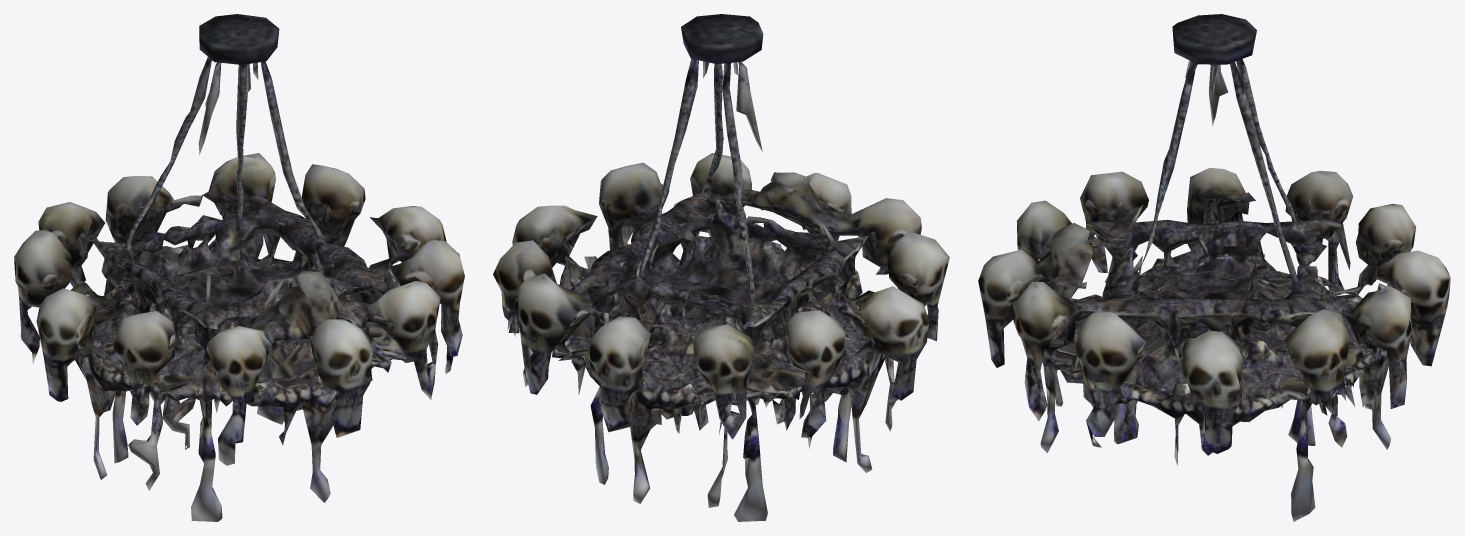
Rendered from Chandelier.fbx.
3 renders of one model, left to right at view 1: azimuth 30°, elevation 25°; view 2: azimuth 150°, elevation 25°; view 3: azimuth 270°, elevation 25°, orthographic.
Visible parts, largest first — view 1: mesh; view 2: mesh; view 3: mesh.
Part boxes in pixels (x1,y1,x2,y2): mesh: [14, 14, 464, 521]; mesh: [493, 14, 949, 521]; mesh: [978, 14, 1450, 521].
Bounding box in the file's own units: 94.68 × 100 × 94.74.
